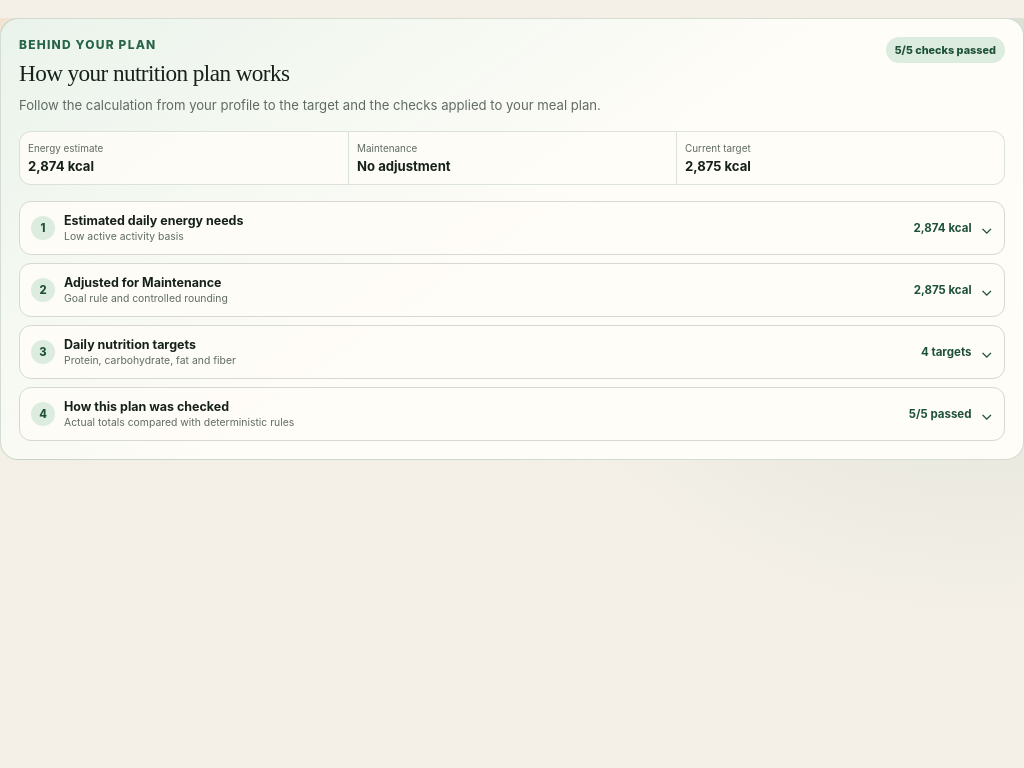
nutrition transparency › renders progressive disclosure, formulas, sources and plan checks
The image size is (1024, 768).
Expected: the element "How your nutrition plan works" is shown, [0,18,1023,460]
Expected: the text "5/5 checks passed" is shown, [886,37,1005,63]
Click the text "Estimated daily energy needs" at (154, 221), box [64,213,244,228]
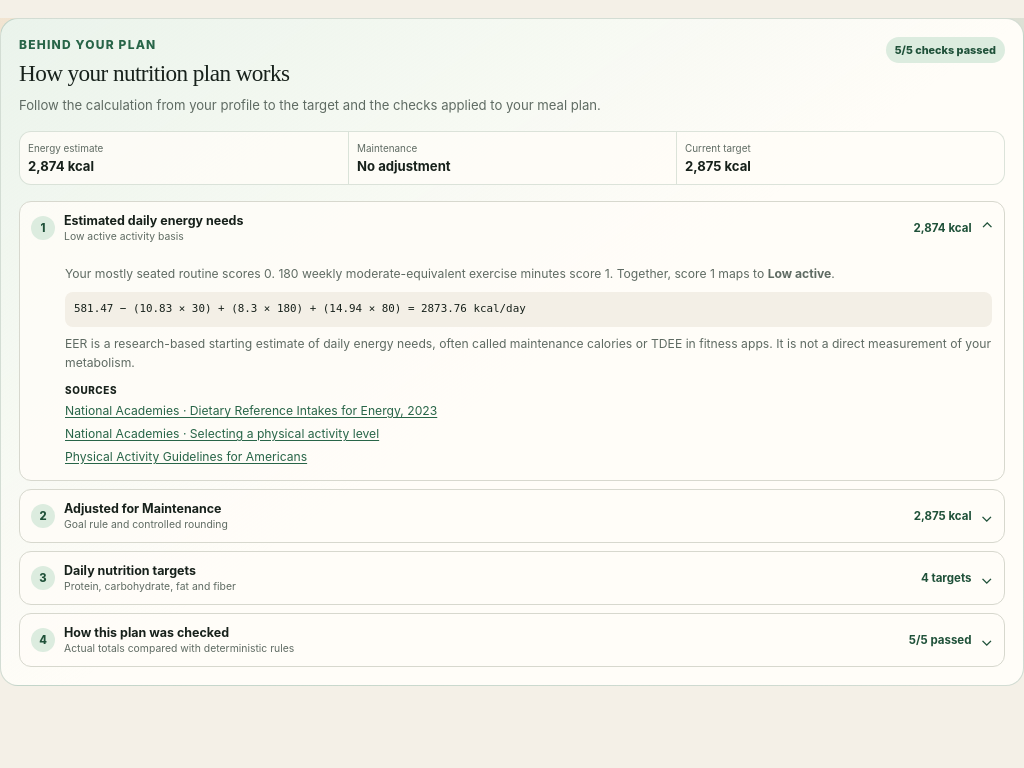
Expected: the text "581.47" is shown, [74,302,526,315]
